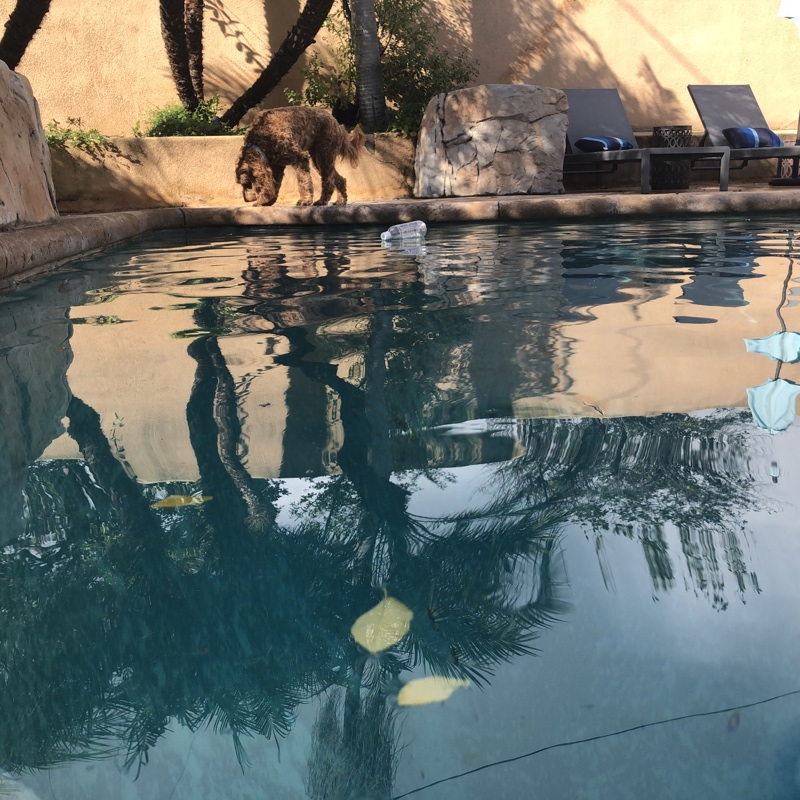Plastic Bottle: (379, 218, 433, 244)
